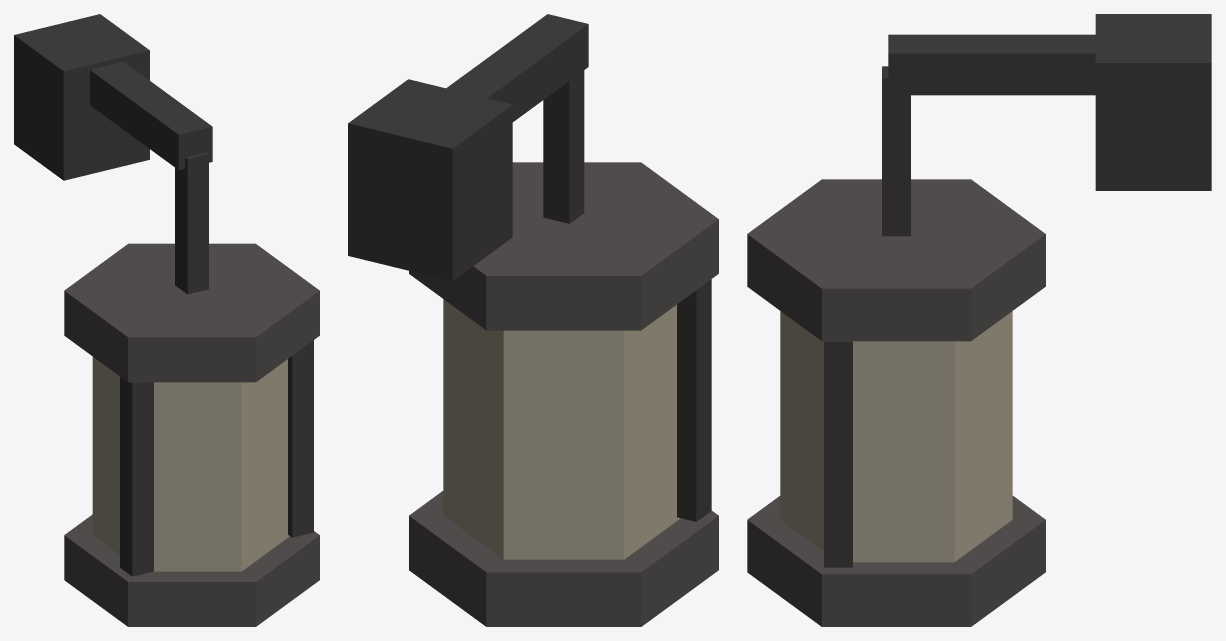
The model's file is wall_lantern.glb.
3 views of the same model, side by side, from view 1: azimuth 30°, elevation 25°; view 2: azimuth 150°, elevation 25°; view 3: azimuth 270°, elevation 25° (orthographic). The views are drawn at different scales.
Parts seen in each view (by area): view 1: wall_lantern; view 2: wall_lantern; view 3: wall_lantern.
Part boxes in pixels (x1=…): wall_lantern: x1=14, y1=14, x2=319, y2=626; wall_lantern: x1=348, y1=14, x2=718, y2=626; wall_lantern: x1=747, y1=14, x2=1211, y2=626.
Size of the model in its own units: 0.3118 by 0.71 by 0.56.
